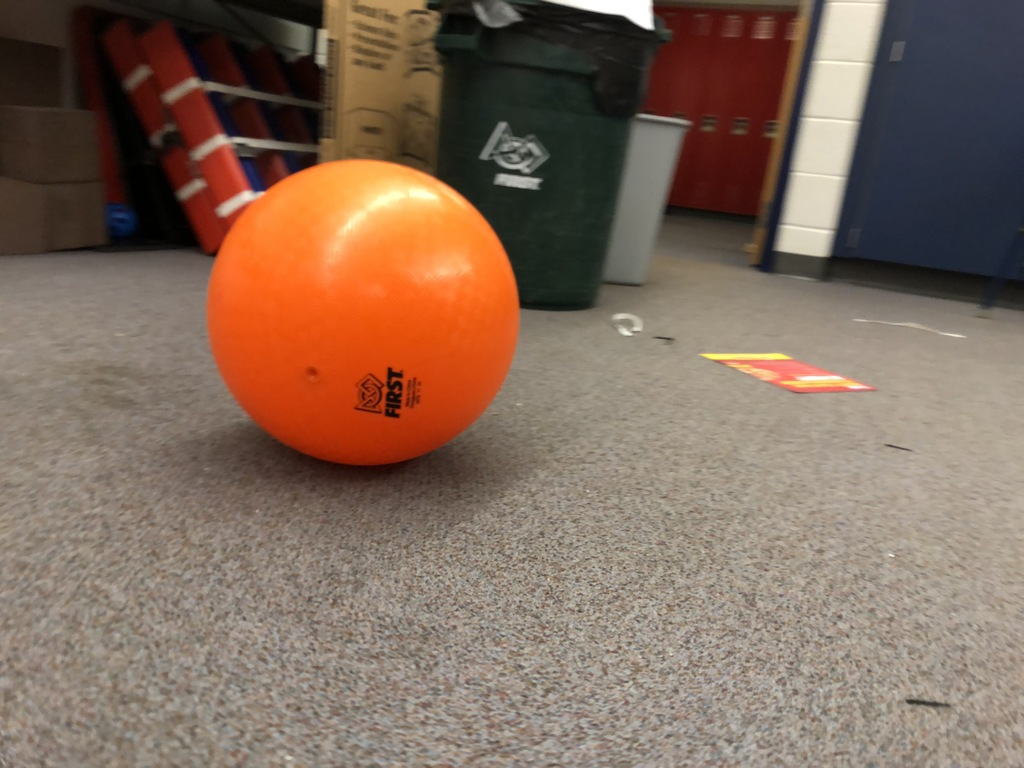cargo: (202, 148, 530, 480)
